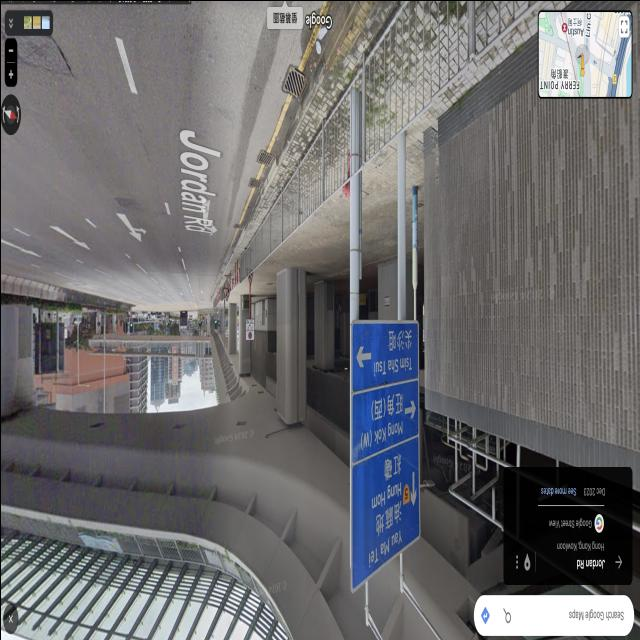Direction-Sign: (350, 320, 418, 593)
Order-Sign: (245, 318, 254, 340)
Warning-Sign: (221, 287, 230, 302)
